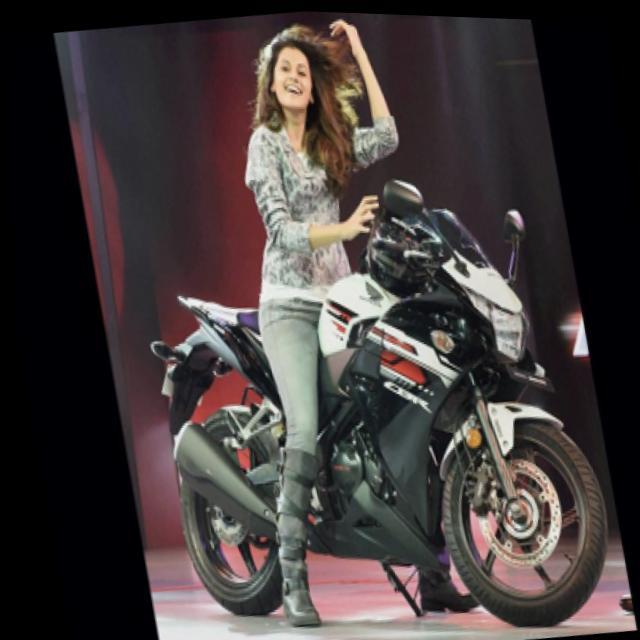Nonhelmet: (255, 22, 333, 136)
